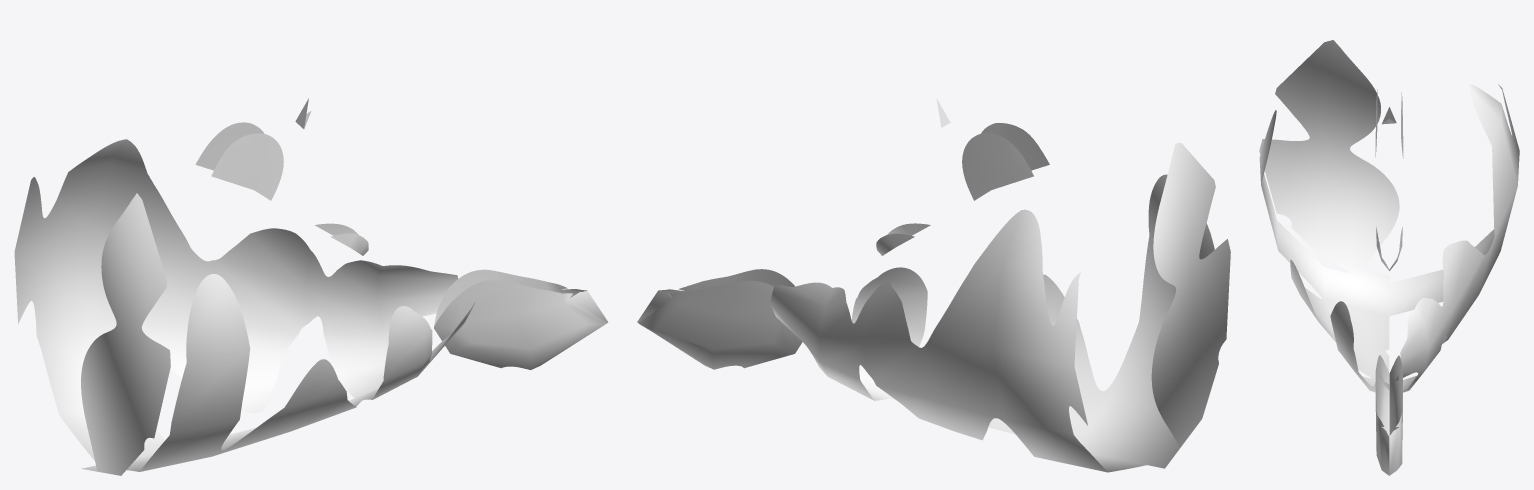
File: GiantTuna.fbx
The picture shows the model from 3 angles, left to right: view 1: azimuth 30°, elevation 25°; view 2: azimuth 150°, elevation 25°; view 3: azimuth 270°, elevation 25°; orthographic projection. The views are drawn at different scales.
Visible parts, largest first — view 1: GiantTuna; view 2: GiantTuna; view 3: GiantTuna.
Part boxes in pixels (left/top/right/bottom): GiantTuna: left=14, top=98, right=608, bottom=475; GiantTuna: left=637, top=98, right=1230, bottom=472; GiantTuna: left=1259, top=40, right=1519, bottom=475.
Size of the model in its own units: 107 by 81.29 by 55.11.
